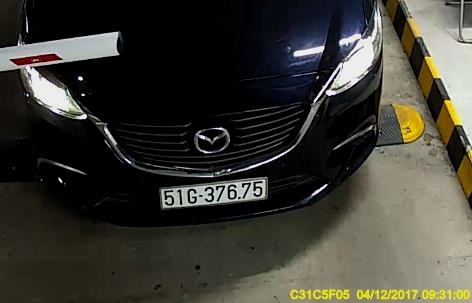plate: (155, 175, 269, 212)
